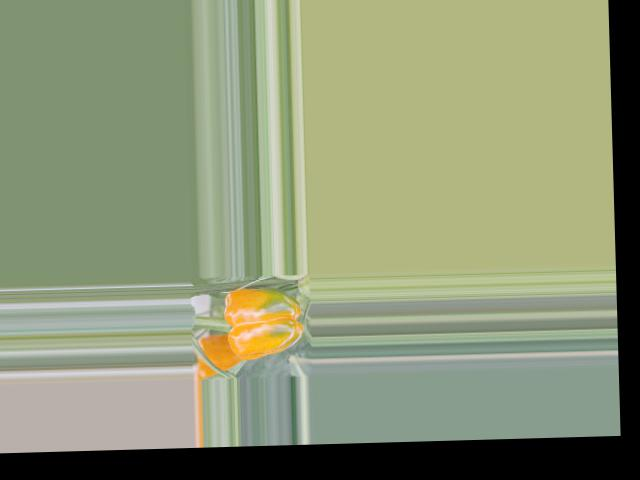bell_pepper: (214, 277, 310, 364)
